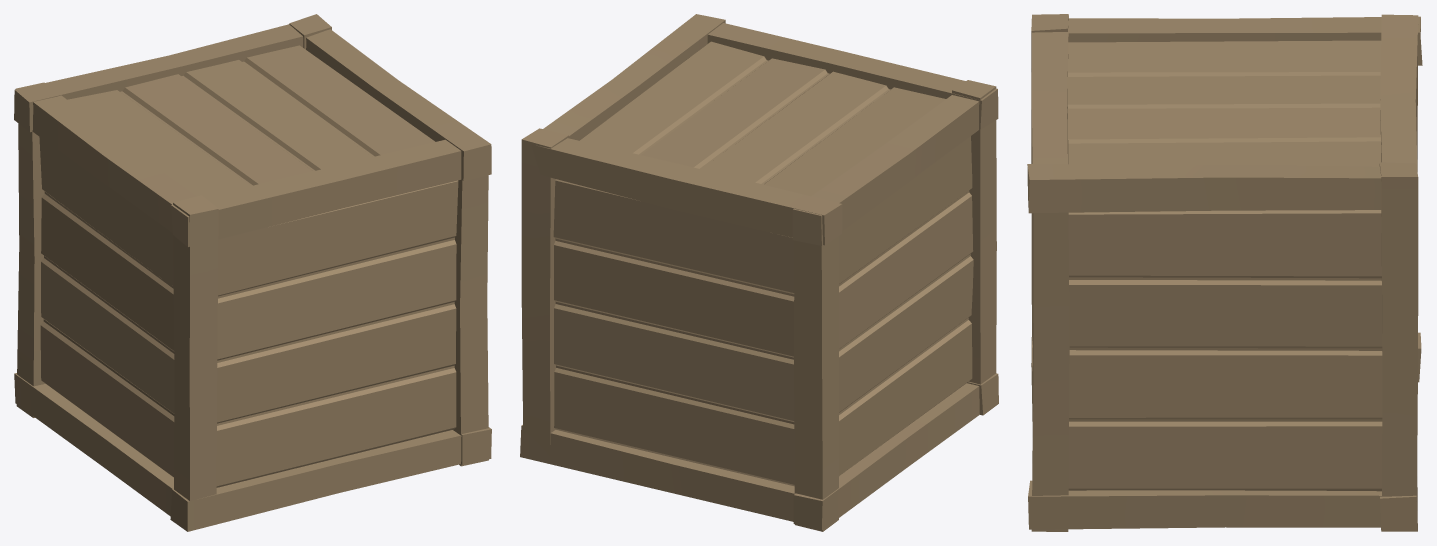
The model's file is LightWoodMechSmallCrate1.fbx.
3 renders of one model, left to right at view 1: azimuth 30°, elevation 25°; view 2: azimuth 150°, elevation 25°; view 3: azimuth 270°, elevation 25°, orthographic. The views are drawn at different scales.
Parts seen in each view (by area): view 1: LightWoodMechSmallCrate1; view 2: LightWoodMechSmallCrate1; view 3: LightWoodMechSmallCrate1.
Boxes of the visible parts, box(x1,y1,x2,y2) form: LightWoodMechSmallCrate1: box(14, 14, 491, 531); LightWoodMechSmallCrate1: box(520, 14, 998, 531); LightWoodMechSmallCrate1: box(1027, 14, 1422, 531).
Bounding box in the file's own units: 102 × 102 × 102.
